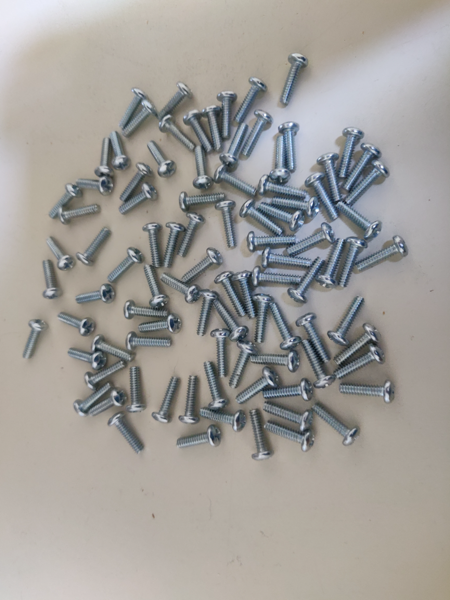shortscrew: (311, 403, 361, 447), (345, 159, 390, 207), (334, 324, 383, 367), (328, 296, 367, 347), (343, 143, 383, 192), (356, 236, 409, 271), (288, 257, 327, 304), (302, 337, 336, 390), (335, 344, 386, 379), (296, 313, 331, 364), (305, 172, 340, 222), (336, 202, 383, 239), (264, 420, 316, 453), (240, 199, 284, 237), (287, 223, 336, 257), (234, 77, 268, 125), (107, 412, 144, 455), (316, 239, 348, 288), (263, 402, 315, 432), (73, 381, 115, 418), (182, 247, 224, 284), (280, 53, 309, 106), (338, 237, 368, 288), (242, 109, 273, 158), (214, 271, 247, 317), (214, 301, 250, 343), (229, 341, 259, 390), (122, 99, 159, 138), (214, 165, 258, 197), (159, 115, 197, 152), (151, 376, 180, 424), (108, 247, 145, 284), (158, 82, 193, 121), (160, 273, 204, 304), (77, 228, 111, 268), (340, 380, 396, 404), (177, 212, 206, 258), (120, 163, 153, 203), (184, 111, 215, 153), (84, 360, 126, 391), (338, 128, 364, 178), (199, 405, 247, 432), (220, 123, 250, 166), (258, 203, 304, 231), (118, 183, 158, 215), (250, 410, 275, 461), (118, 88, 148, 130), (202, 361, 227, 411), (317, 152, 341, 203), (91, 335, 134, 363), (88, 388, 128, 418), (251, 350, 300, 374), (263, 379, 314, 402), (232, 271, 256, 319), (210, 329, 233, 379), (147, 140, 177, 178), (178, 376, 201, 425), (50, 184, 82, 219), (22, 319, 49, 360), (247, 231, 296, 253), (145, 265, 170, 308), (262, 248, 313, 269), (163, 222, 186, 268), (177, 425, 223, 448), (273, 196, 321, 218), (279, 122, 300, 172), (253, 266, 303, 287), (197, 290, 219, 337), (45, 238, 76, 271), (125, 367, 147, 413), (216, 200, 237, 248), (217, 91, 238, 139), (58, 312, 97, 337), (193, 146, 215, 190), (142, 223, 163, 268), (271, 136, 291, 183), (68, 347, 107, 371), (180, 192, 226, 212), (203, 105, 223, 151), (58, 204, 101, 225), (139, 314, 182, 335), (110, 131, 132, 171), (75, 284, 116, 305), (41, 260, 63, 299), (124, 300, 169, 319), (125, 332, 172, 350), (94, 138, 115, 176), (76, 177, 115, 196)
